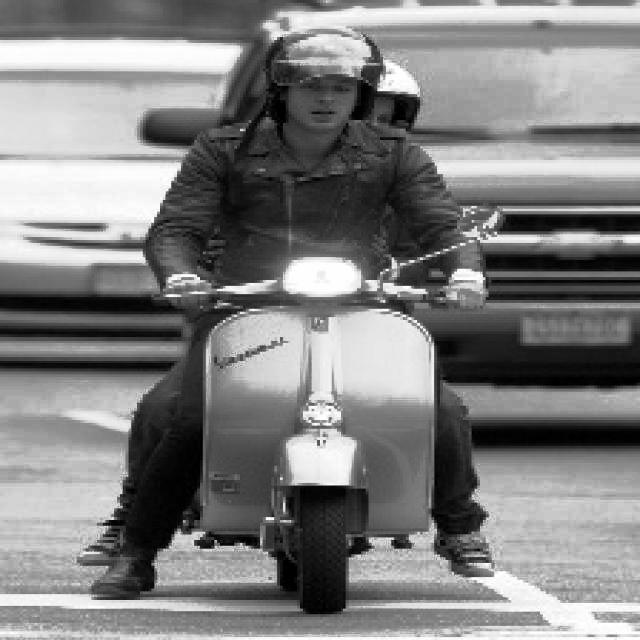Bike: (175, 272, 462, 608)
